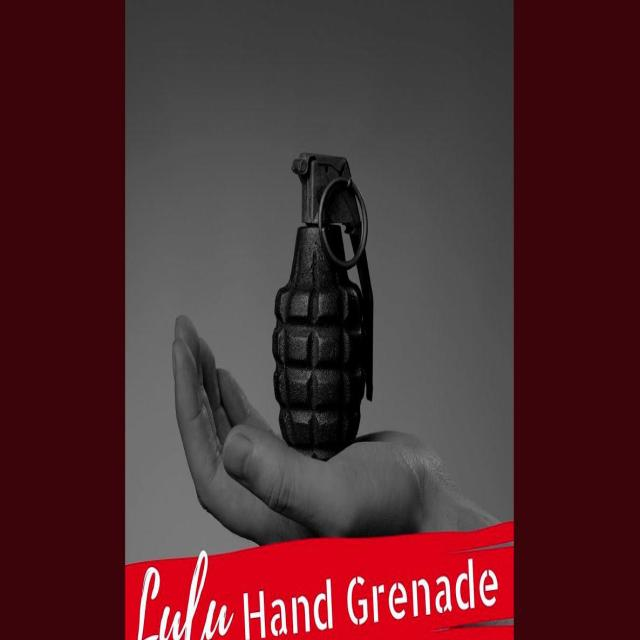grenade: (275, 152, 376, 463)
